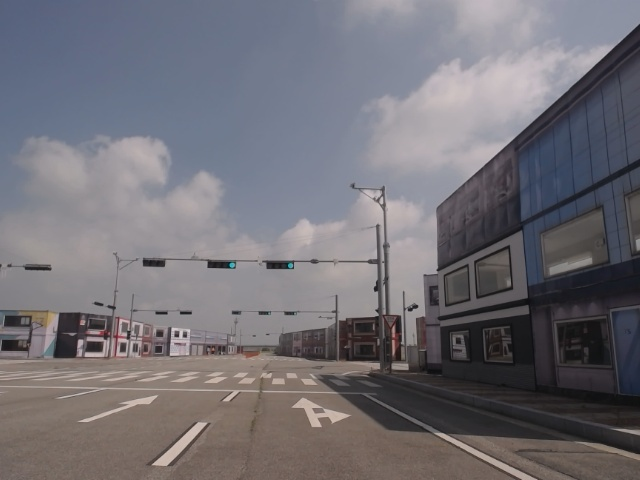straight_green_4: (265, 258, 295, 269), (208, 259, 237, 268)
